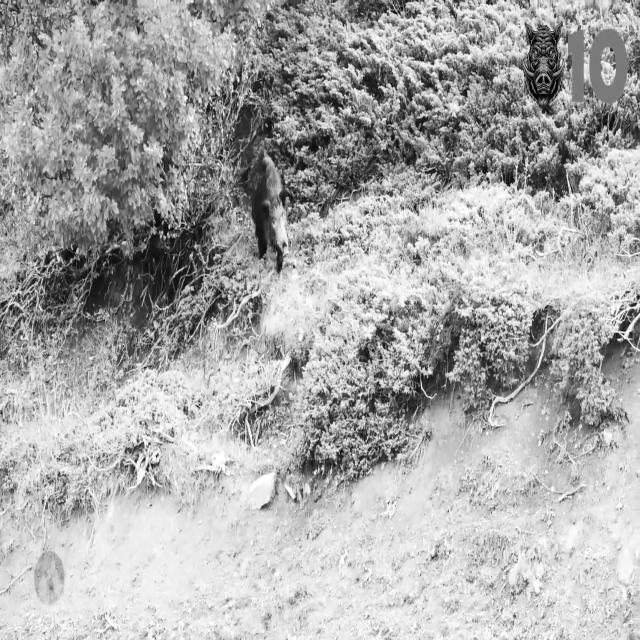boar: (251, 154, 287, 271)
